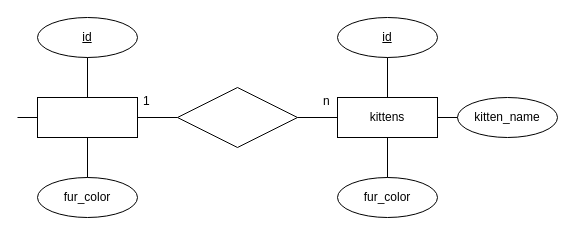
This 575x235 diagram has some shape labels left out. Here are the shapes that lost their labels. From the top down, the centre of each, then its label:
point (87, 117): catmoms
point (237, 117): has a
